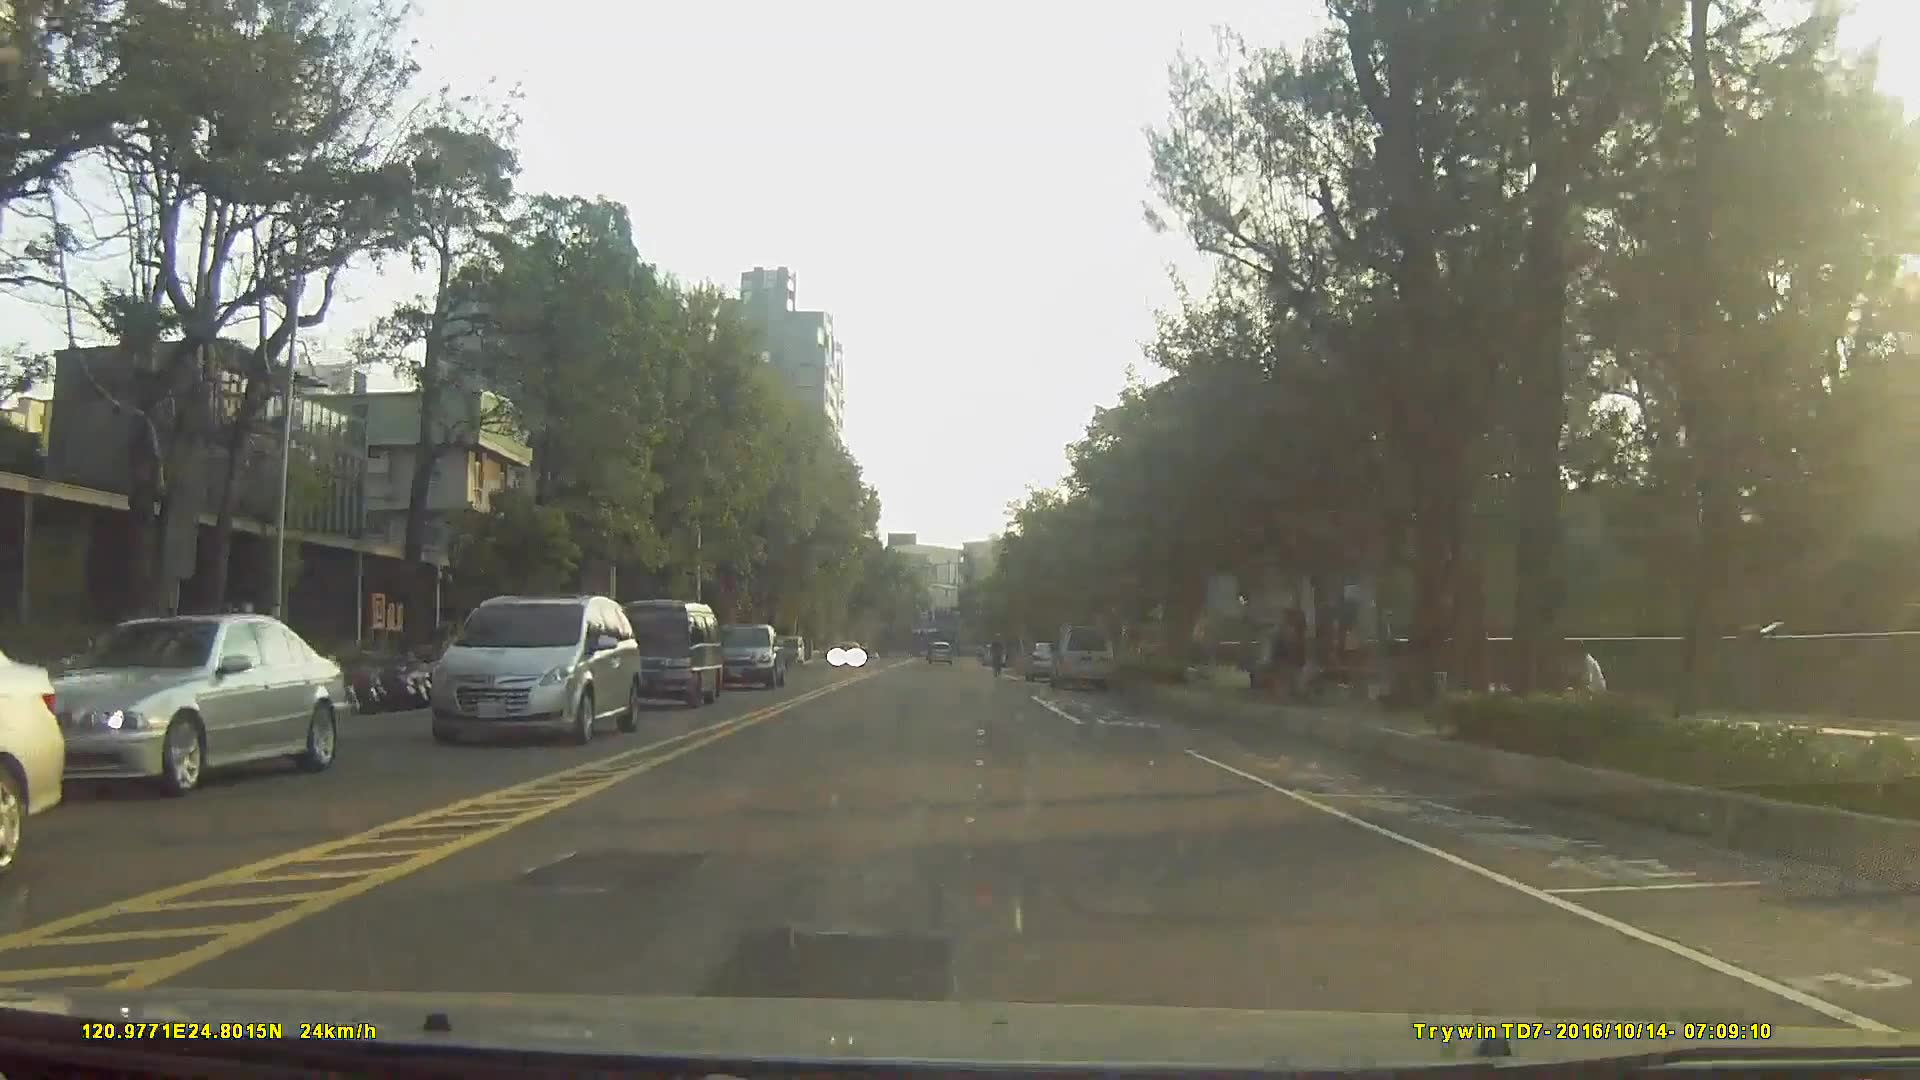pedestrian: (1244, 620, 1282, 703)
rider: (988, 630, 1008, 676)
vehicle: (18, 611, 345, 795), (427, 592, 640, 746), (0, 644, 64, 880), (609, 596, 725, 704), (707, 620, 786, 687), (1047, 625, 1111, 690), (1024, 637, 1069, 680), (772, 631, 806, 665), (828, 639, 864, 668), (922, 638, 954, 663)
